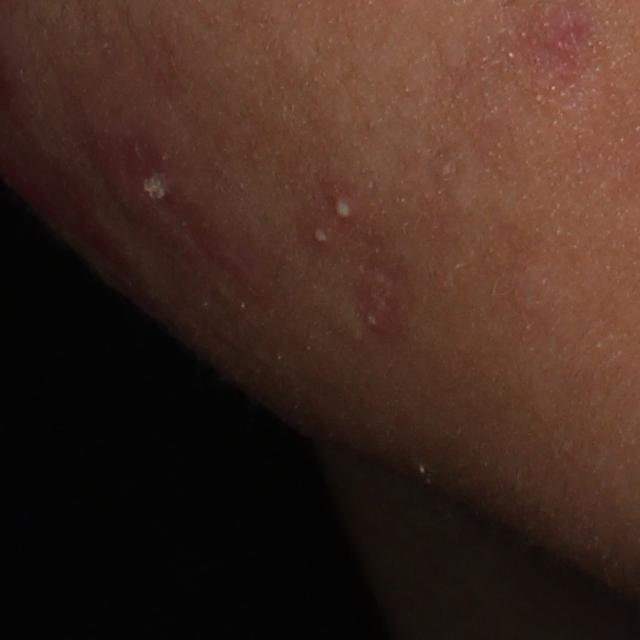pustule: (135, 159, 198, 218), (331, 195, 357, 224), (310, 225, 330, 248)
